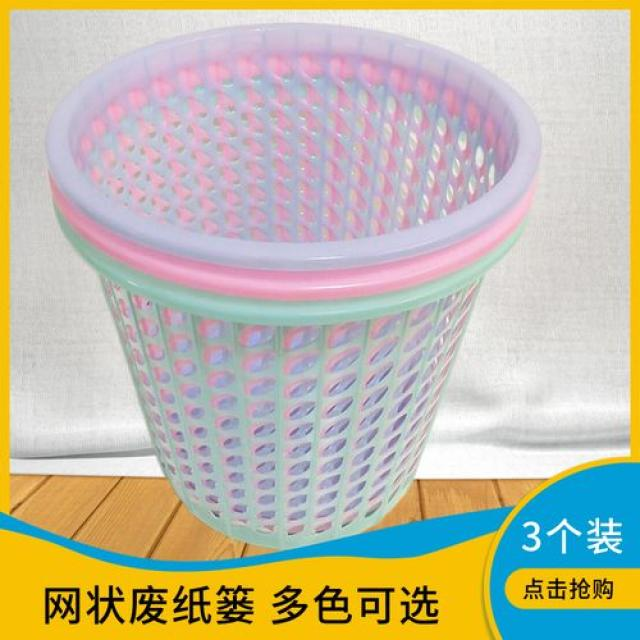dustbin: (44, 16, 544, 556)
